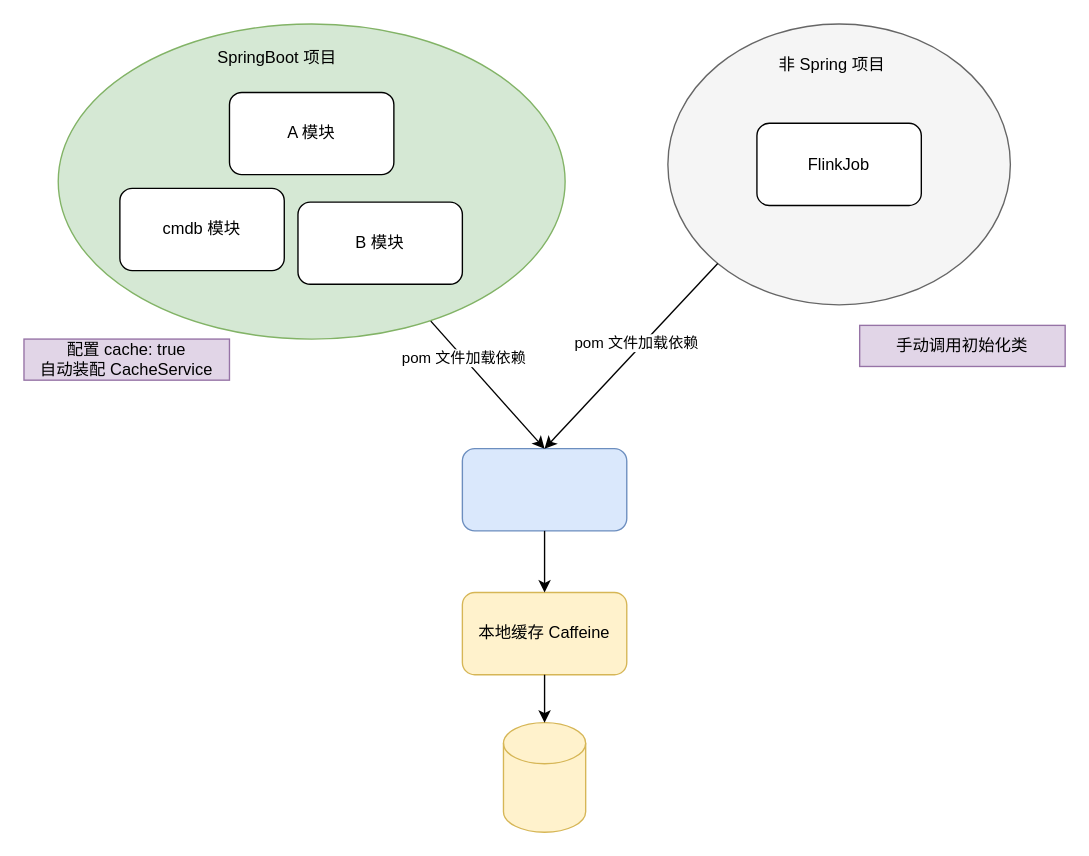
Image size: 1089x856. Some labels were removed from this diagram. Here are the shapes that lost their labels. From the top down, the centre of each, then its label:
At (x=544, y=489): "本地缓存公共服务模块".
At (x=544, y=776): "Redis".
